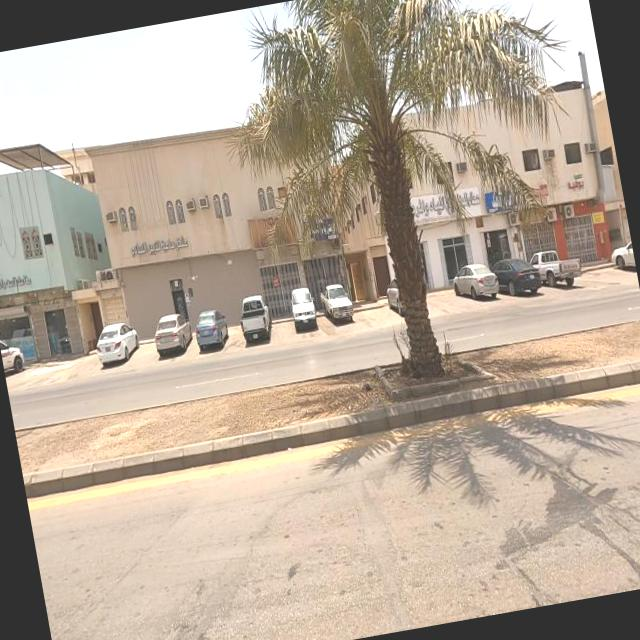debris: (200, 167, 338, 290)
